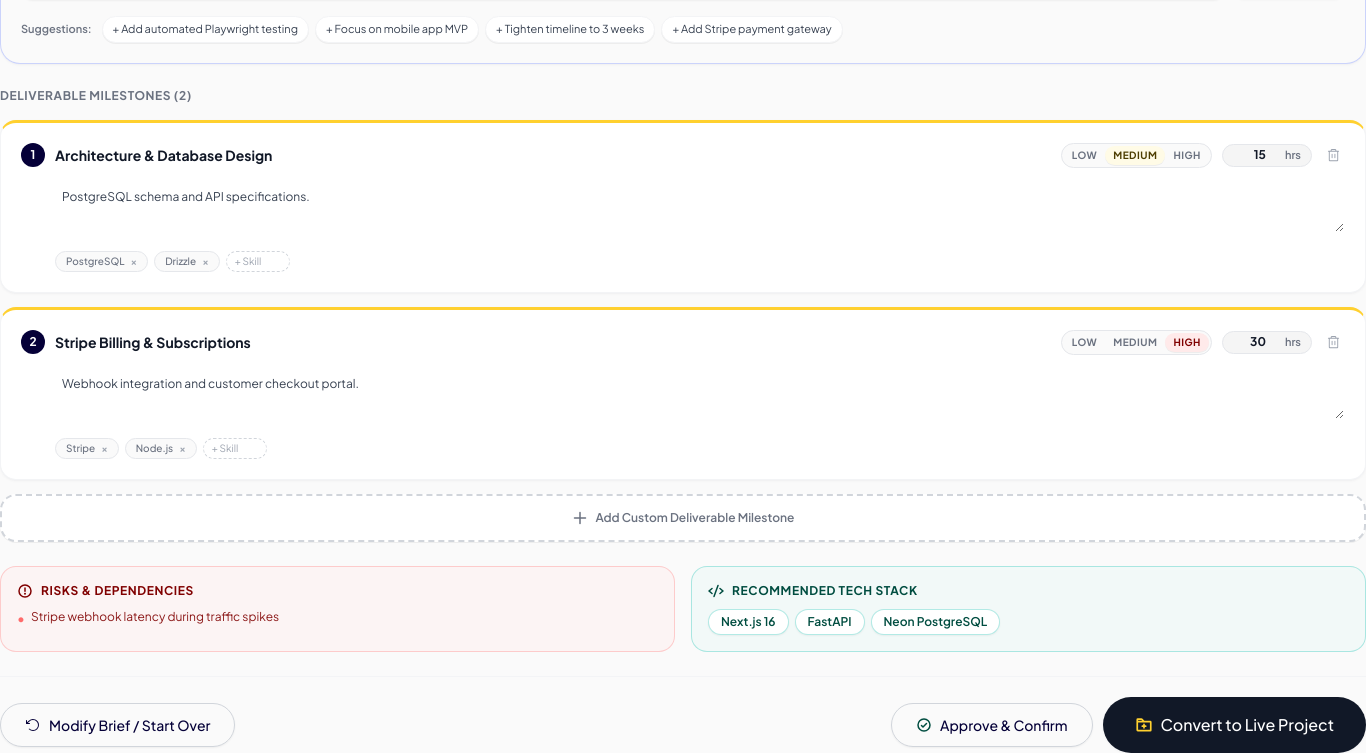
Test: ScopeReviewDraft › opens ConvertScopeModal when Convert to Live Project is clicked
(page scrolled)
What coordinates should you click on to do the following:
click the button "Convert to Live Project"
I would click on:
 (1234, 725)
Its box is [1102,697,1365,752].
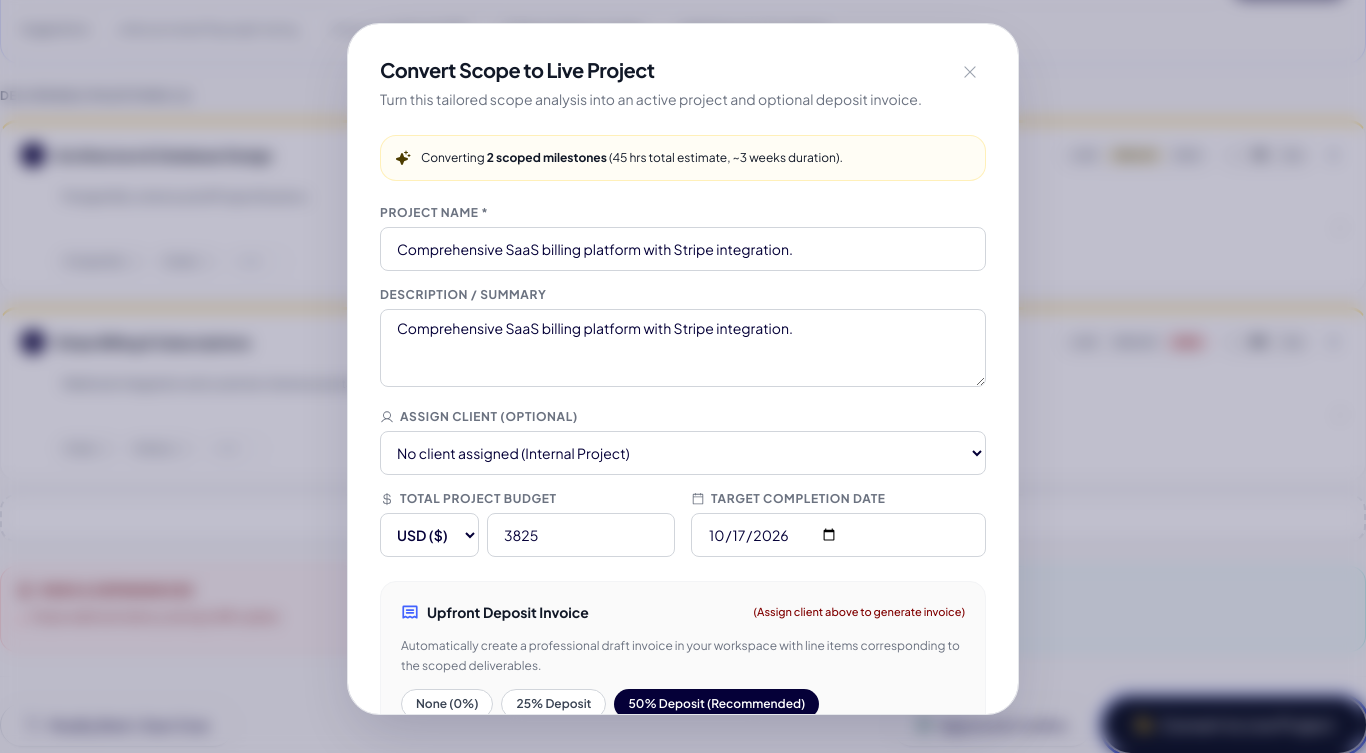
Now the heading "Convert Scope to Live Project" is shown, box [380,57,655,82]
Now the button "50% Deposit (Recommended)" is shown, box [614,689,819,715]
